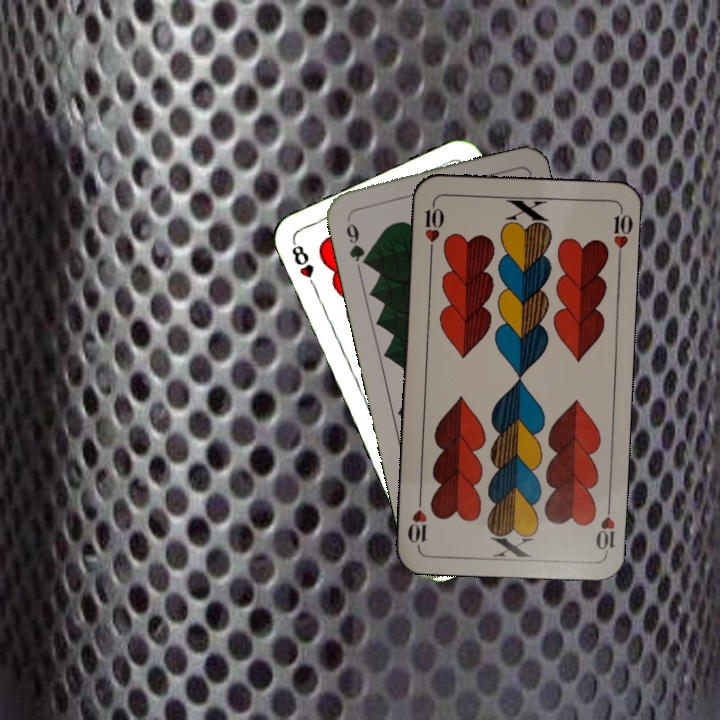G9: (342, 212, 372, 269)
H10: (592, 497, 618, 556), (420, 198, 445, 258)
H8: (287, 237, 320, 293)
